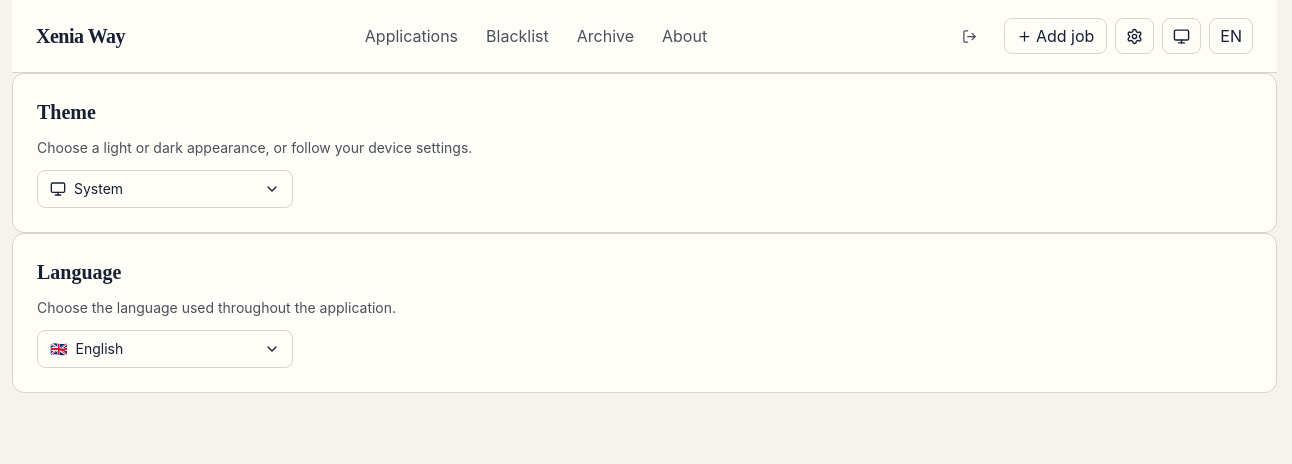
it: announces a shared multi-field retry once with the header and Settings mounted
Click the button named "Theme: System. Change theme": (1182,36) 1162,18 -> 1201,54
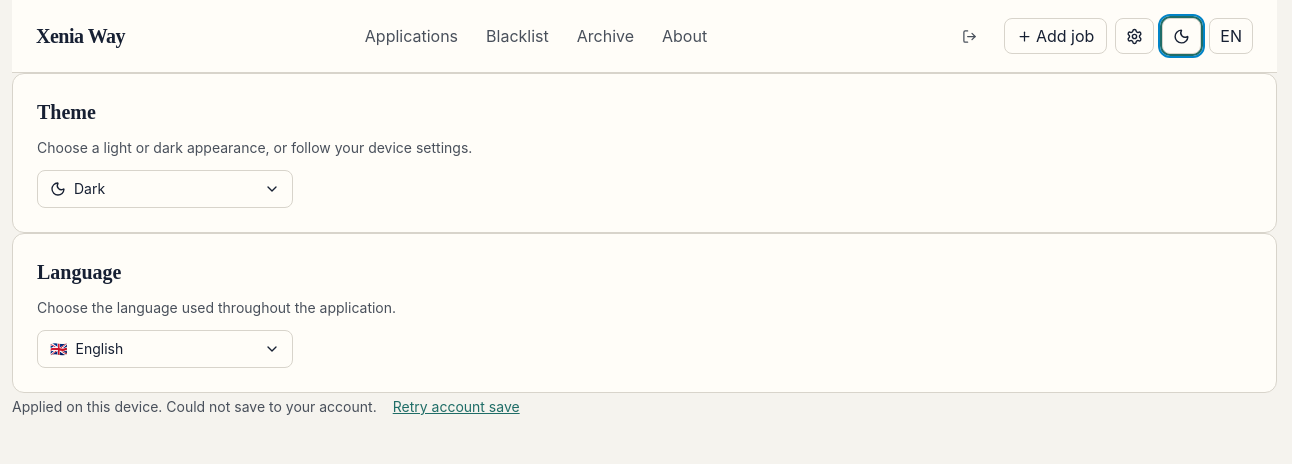
Expected: the button "Retry account save" is shown, 385,393 -> 528,421
Click the button with aria-label "Language: English. Change language": (1231,36) 1209,18 -> 1253,54
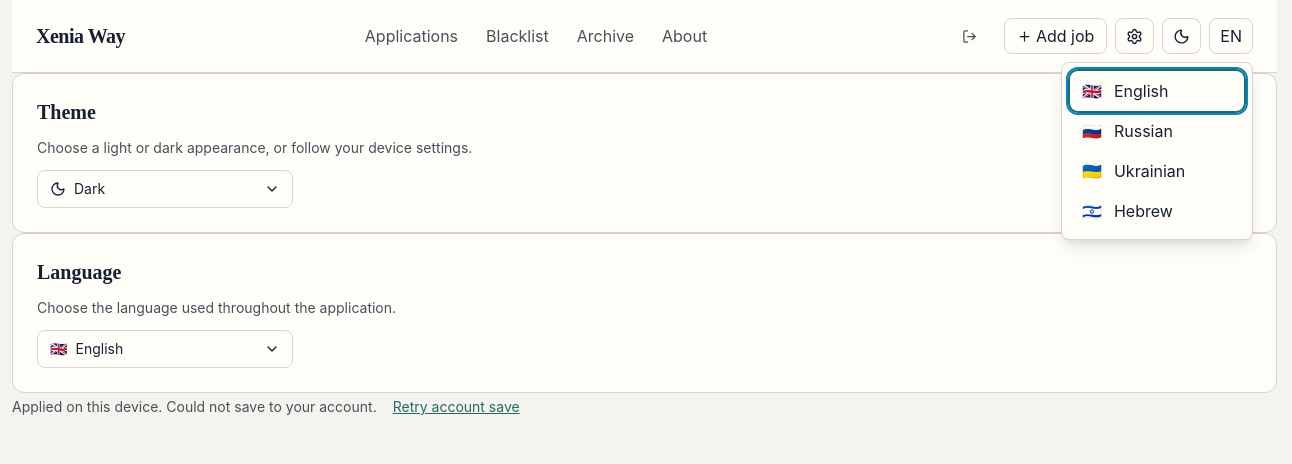
Click the menu item "🇬🇧 English": (1157,91) 1070,71 -> 1244,111
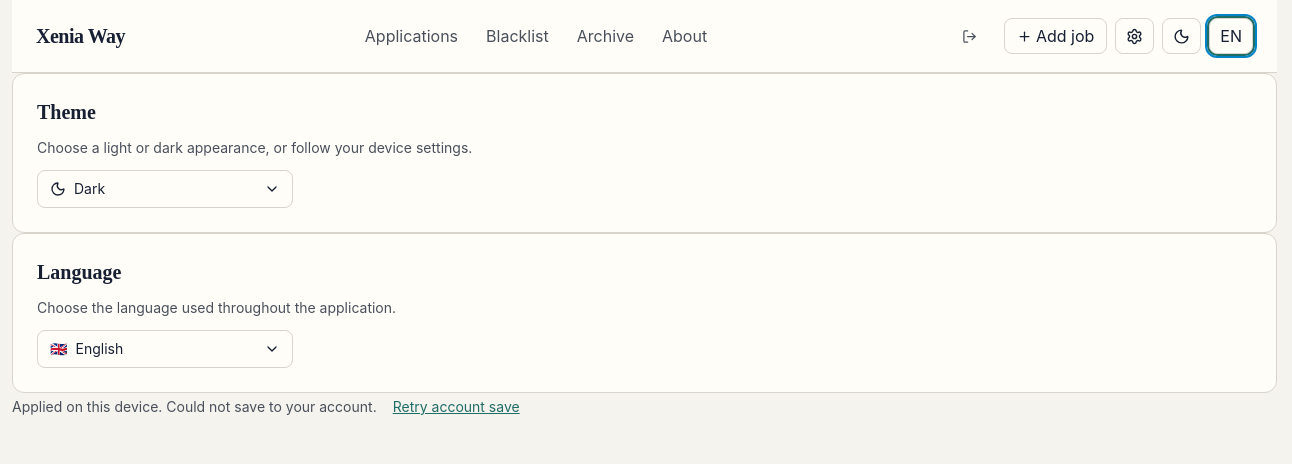
Expected: the number of messages is 1, 12,393 -> 528,421
Click the button "Retry account save": (456,407) 385,393 -> 528,421
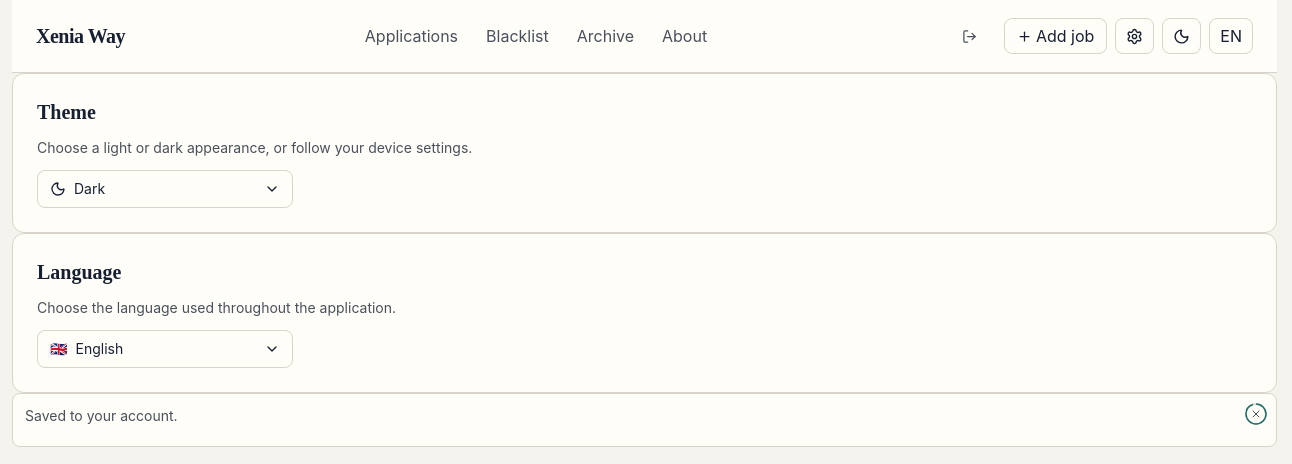
Expected: the message reads "Saved to your account.", 25,407 -> 178,424
